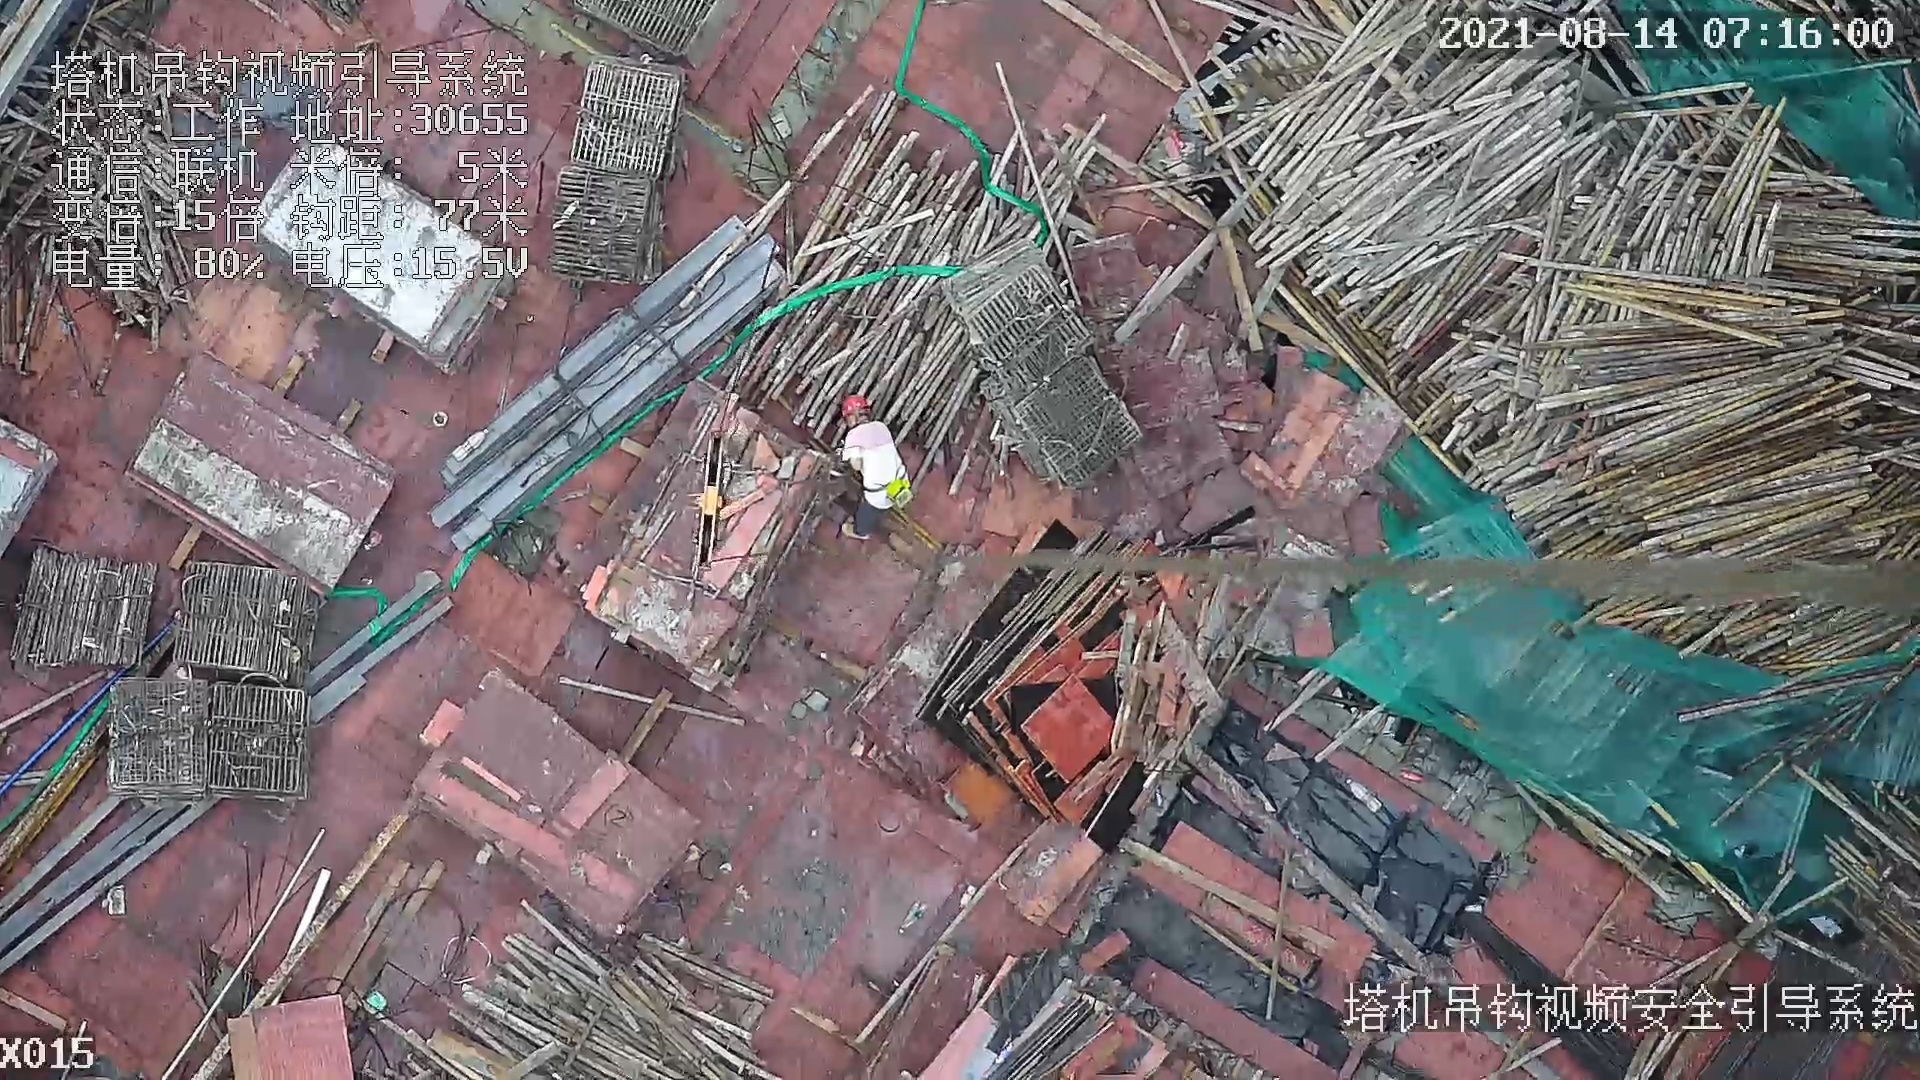helmet: (841, 394, 866, 416)
hook: (683, 427, 728, 576)
person: (838, 401, 913, 537)
